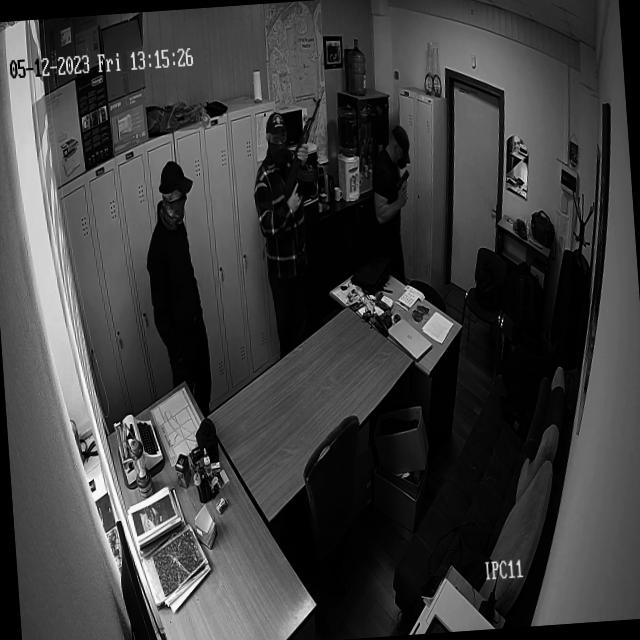gun: (280, 91, 330, 216), (392, 170, 412, 212)
person: (143, 161, 211, 388)
person with a gun: (248, 98, 338, 349), (367, 125, 418, 266)
